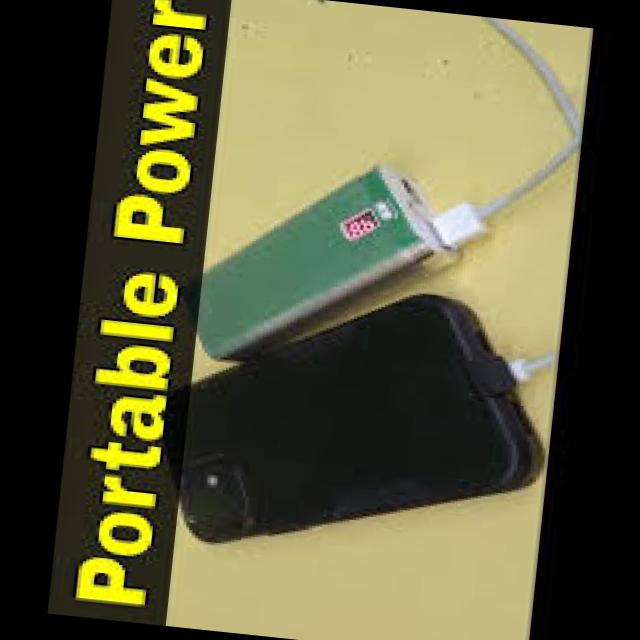power_bank: (187, 150, 466, 382)
